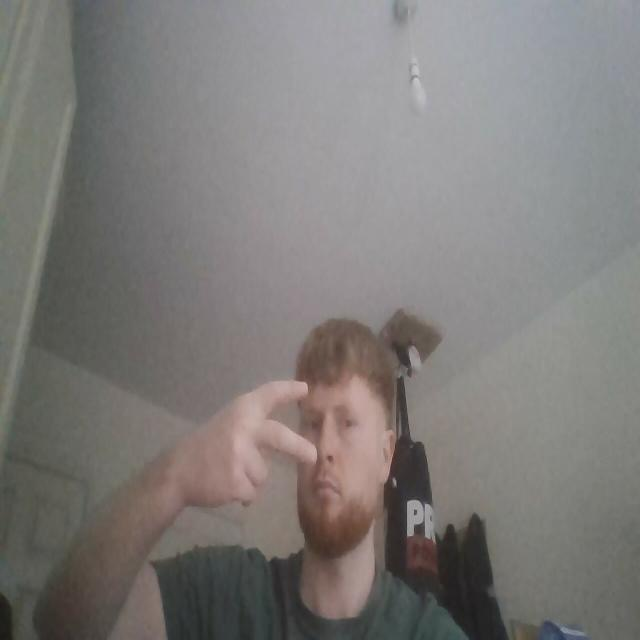scissors: (174, 377, 320, 513)
